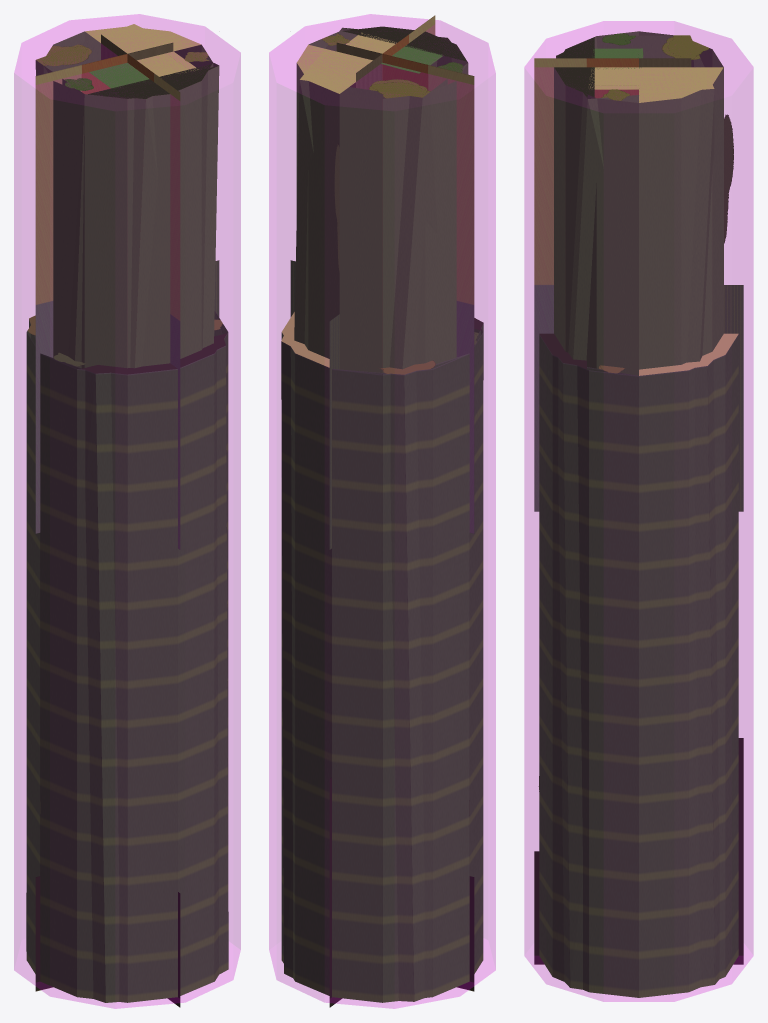
The model's file is saguaro_small.dae.
3 renders of one model, left to right at view 1: azimuth 30°, elevation 25°; view 2: azimuth 150°, elevation 25°; view 3: azimuth 270°, elevation 25°, orthographic.
Parts seen in each view (by area): view 1: Colmesh_trunk-1, saguaro_small_a800, saguaro_small_a200, saguaro_small_a50; view 2: Colmesh_trunk-1, saguaro_small_a800, saguaro_small_a200, saguaro_small_a50; view 3: Colmesh_trunk-1, saguaro_small_a800, saguaro_small_a200, saguaro_small_a50.
Boxes of the visible parts, <box> form: Colmesh_trunk-1: <box>14,14,240,1008</box>; saguaro_small_a800: <box>26,26,228,1002</box>; saguaro_small_a200: <box>26,24,228,1002</box>; saguaro_small_a50: <box>35,34,219,1007</box>; Colmesh_trunk-1: <box>269,14,495,1008</box>; saguaro_small_a800: <box>281,26,483,1002</box>; saguaro_small_a200: <box>281,27,483,1001</box>; saguaro_small_a50: <box>290,15,474,1007</box>; Colmesh_trunk-1: <box>524,21,753,1001</box>; saguaro_small_a800: <box>539,31,738,997</box>; saguaro_small_a200: <box>541,35,736,989</box>; saguaro_small_a50: <box>534,58,743,964</box>.
Size of the model in its own units: 0.49 by 0.5152 by 2.24.
2 materials, 1 textured.
